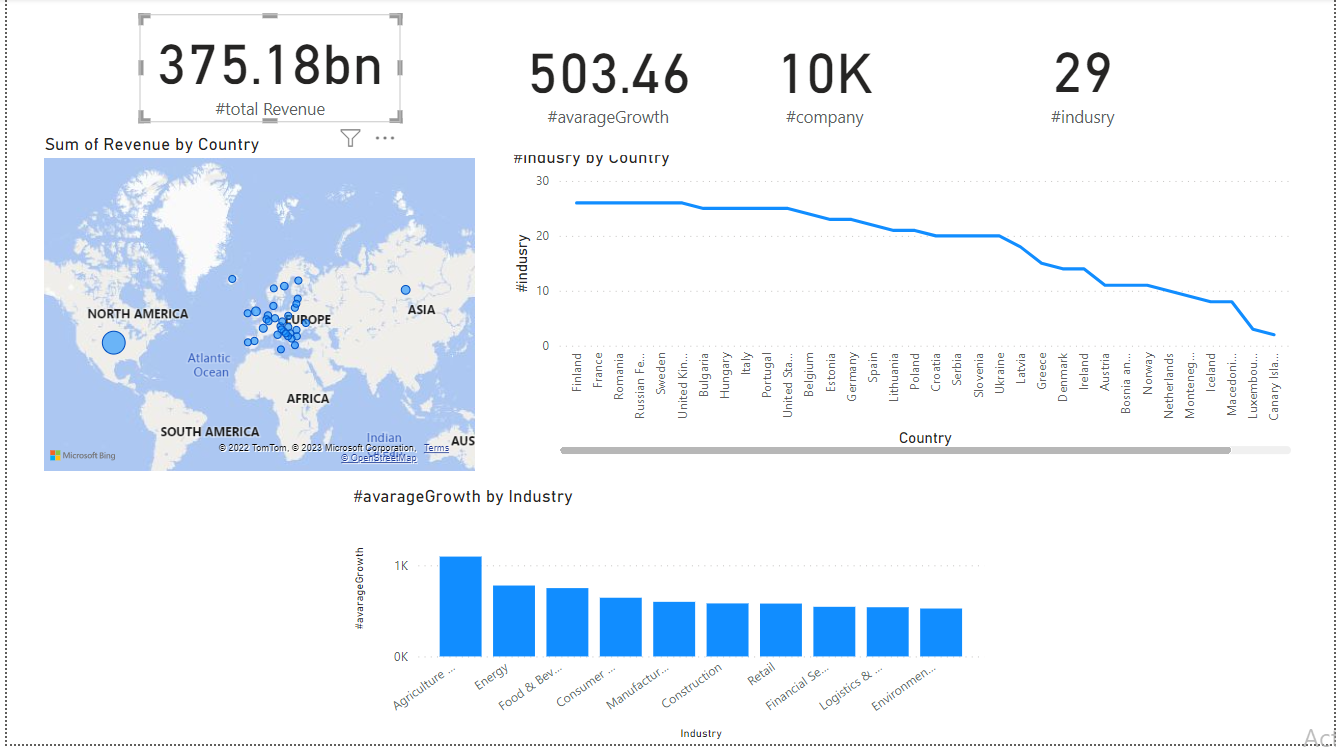

Layout of this report page (visuals, bound fields, positions):
{"tool":"powerbi","page":{"name":"Page 1","canvas":[1280,720],"ordinal":0},"visuals":[{"type":"lineChart","fields":{"Category":["INC 5000 Companies 2019.Country"],"Y":["INC 5000 Companies 2019.#indusry"]},"box":[483,144.1,760.2,301.9],"z":0},{"type":"map","fields":{"Size":["Sum(INC 5000 Companies 2019.Revenue)"],"Category":["INC 5000 Companies 2019.Country"]},"box":[31.6,130.4,425.4,330.7],"z":1000},{"type":"card","fields":{"Values":["INC 5000 Companies 2019.#indusry"]},"box":[937.1,21.7,201.4,108.5],"z":2000},{"type":"card","fields":{"Values":["INC 5000 Companies 2019.#avarageGrowth"]},"box":[490,1,181,150],"z":3000},{"type":"card","fields":{"Values":["INC 5000 Companies 2019.#total Revenue"]},"box":[127.6,15.1,252.5,104.3],"z":4000},{"type":"card","fields":{"Values":["INC 5000 Companies 2019.#company"]},"box":[714,1.2,149.5,149.5],"z":5000},{"type":"clusteredColumnChart","fields":{"Y":["INC 5000 Companies 2019.#avarageGrowth"],"Category":["INC 5000 Companies 2019.Industry"]},"box":[329.3,470.7,618.9,249.7],"z":6000}]}

Visuals, with their boxes in screenshot pixels (x1, y1, x2, y2), scaled from the page's 1280x720 canvas onto the 1336x751 screenshot:
lineChart - INC 5000 Companies 2019.Country x INC 5000 Companies 2019.#indusry: box=[504, 150, 1298, 465]
map - Sum(INC 5000 Companies 2019.Revenue) x INC 5000 Companies 2019.Country: box=[33, 136, 477, 481]
card - INC 5000 Companies 2019.#indusry: box=[978, 23, 1188, 136]
card - INC 5000 Companies 2019.#avarageGrowth: box=[511, 1, 700, 158]
card - INC 5000 Companies 2019.#total Revenue: box=[133, 16, 397, 125]
card - INC 5000 Companies 2019.#company: box=[745, 1, 901, 157]
clusteredColumnChart - INC 5000 Companies 2019.#avarageGrowth x INC 5000 Companies 2019.Industry: box=[344, 491, 990, 750]
